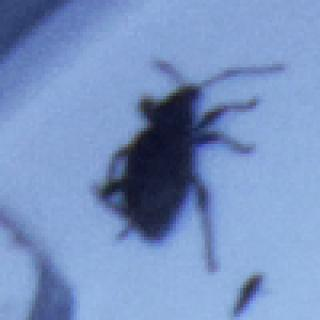bvw: (92, 57, 286, 273)
